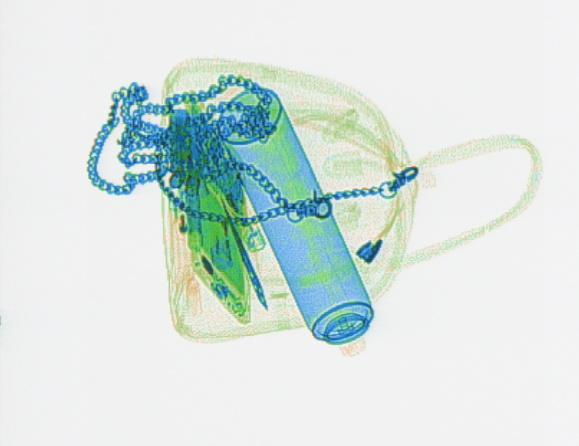knife: (212, 190, 266, 311)
lighter: (206, 151, 266, 252), (204, 161, 235, 272), (165, 175, 191, 279)
pressure: (214, 85, 373, 344)
